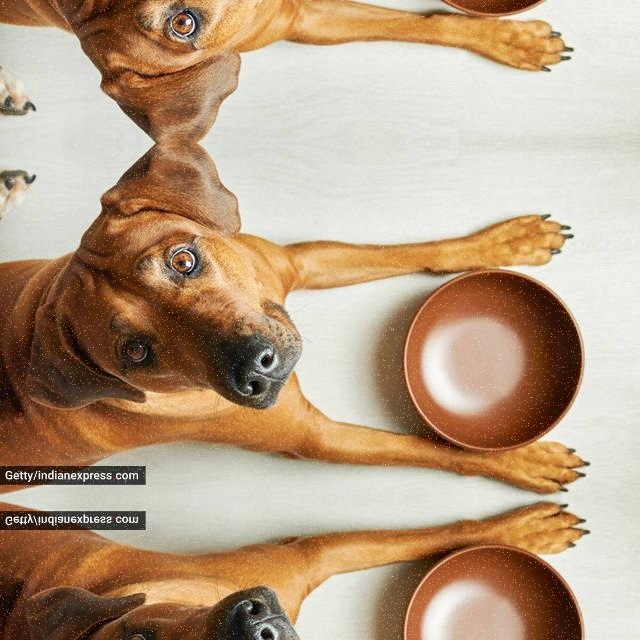dog: (69, 142, 343, 432), (69, 0, 343, 142), (69, 562, 343, 640)
